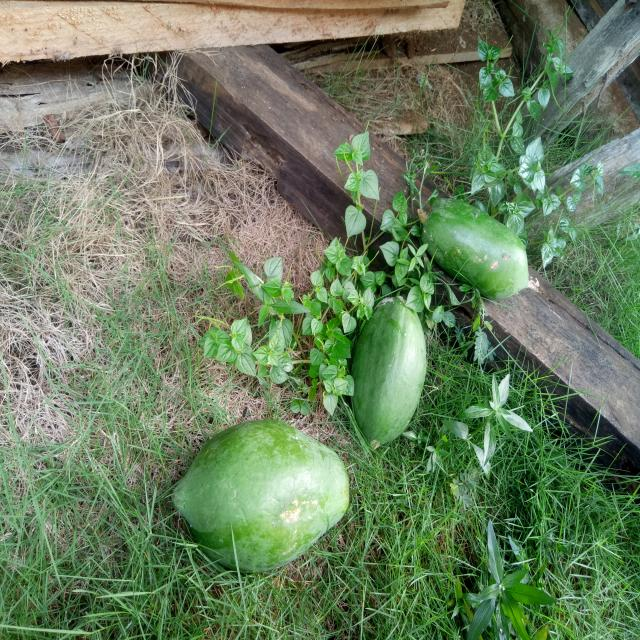Pepaya unrippen: (168, 424, 351, 573), (406, 186, 540, 302), (348, 292, 426, 444)
